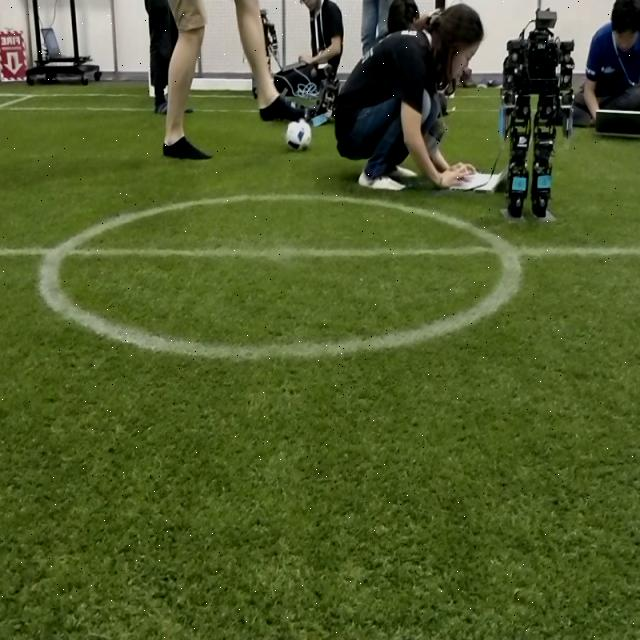ball: (285, 116, 312, 154)
